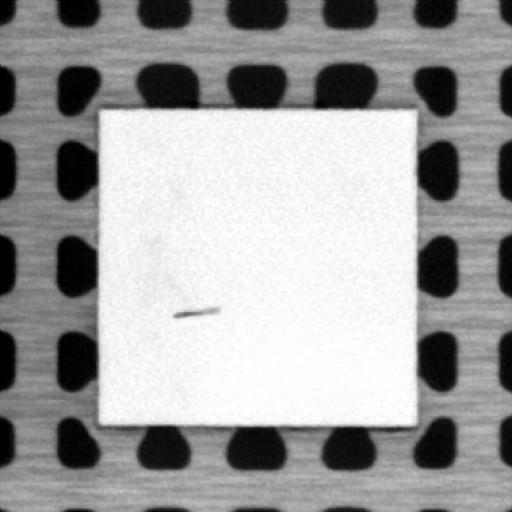DIE_INK: (169, 304, 221, 319)
